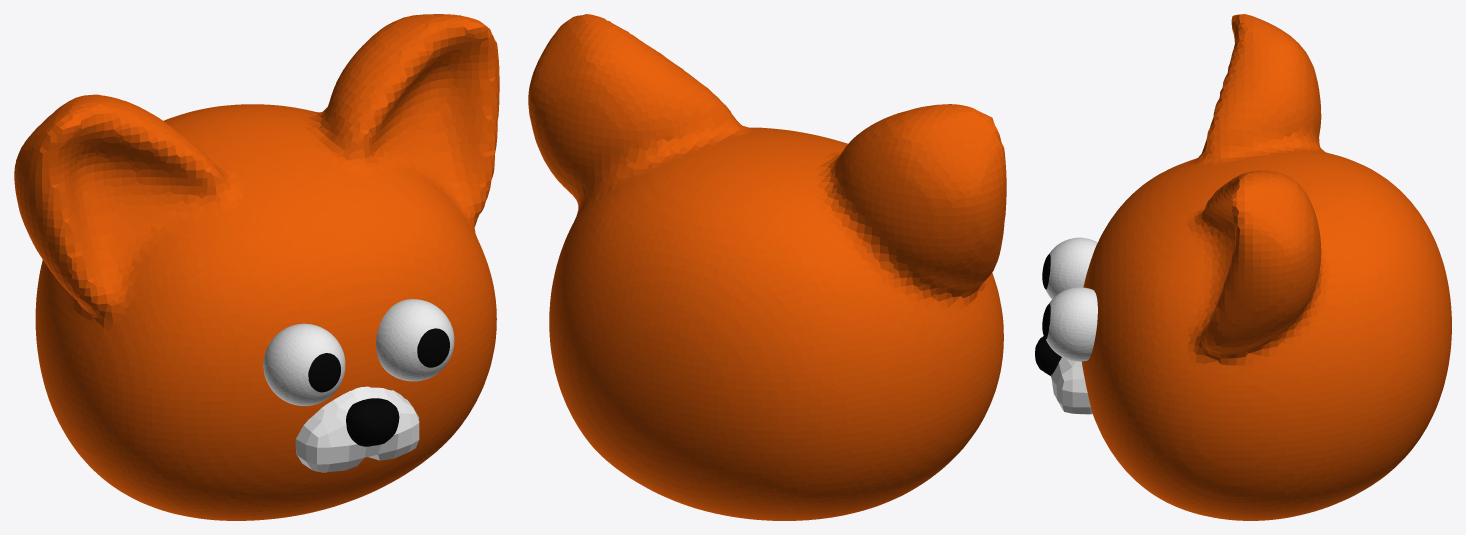
The model's file is fox.fbx.
3 views of the same model, side by side, from view 1: azimuth 30°, elevation 25°; view 2: azimuth 150°, elevation 25°; view 3: azimuth 270°, elevation 25° (orthographic). The views are drawn at different scales.
Parts seen in each view (by area): view 1: Cube.001, Cube.002, Sphere.002, Sphere.001, Cube.003; view 2: Cube.001; view 3: Cube.001, Sphere.001, Sphere.002, Cube.002, Cube.003.
Boxes of the visible parts, bbox=[...] form: Cube.001: bbox=[14, 14, 499, 520]; Cube.002: bbox=[295, 386, 419, 472]; Sphere.002: bbox=[263, 323, 345, 405]; Sphere.001: bbox=[376, 299, 454, 381]; Cube.003: bbox=[346, 398, 399, 446]; Cube.001: bbox=[528, 14, 1006, 520]; Cube.001: bbox=[1081, 14, 1451, 520]; Sphere.001: bbox=[1042, 287, 1097, 361]; Sphere.002: bbox=[1042, 237, 1097, 299]; Cube.002: bbox=[1051, 357, 1092, 414]; Cube.003: bbox=[1035, 336, 1061, 375].
Bounding box in the file's own units: 367 × 325 × 314.
